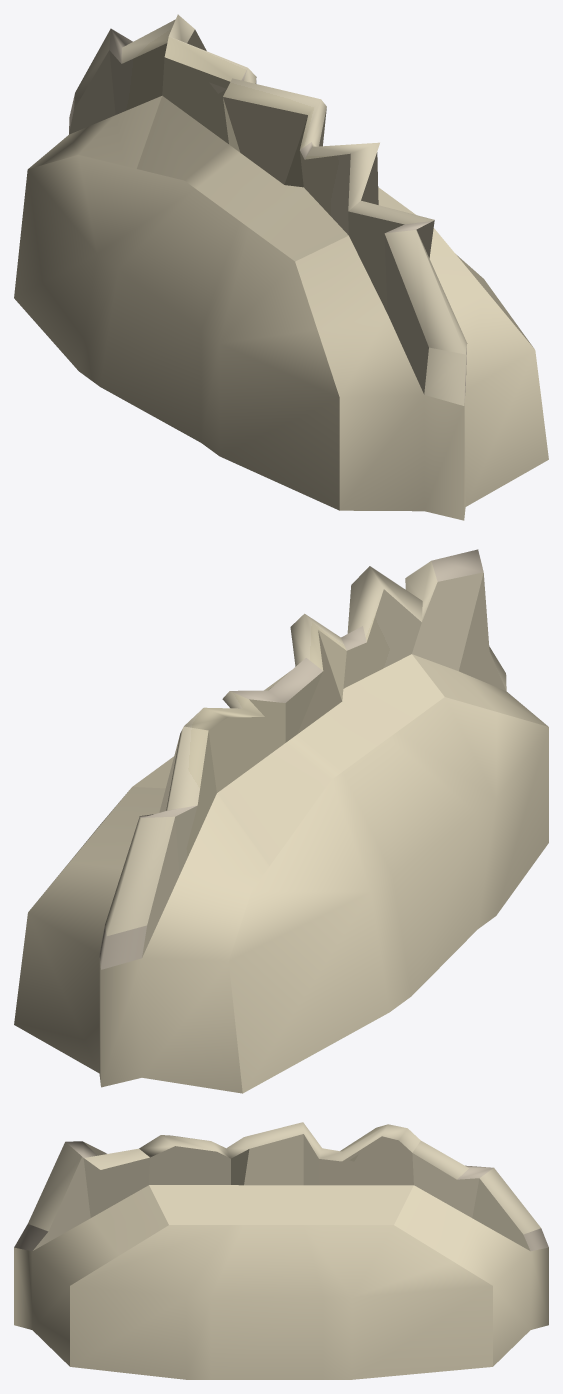
File: dumpling.fbx
3 views of the same model, one above another, from view 1: azimuth 30°, elevation 25°; view 2: azimuth 150°, elevation 25°; view 3: azimuth 270°, elevation 25° (orthographic). The views are drawn at different scales.
Visible parts, largest first — view 1: dumpling; view 2: dumpling; view 3: dumpling.
Part boxes in pixels (bbox=[...]): dumpling: bbox=[14, 14, 548, 520]; dumpling: bbox=[14, 549, 548, 1093]; dumpling: bbox=[14, 1122, 548, 1379].
Size of the model in its own units: 0.2263 by 0.2191 by 0.5135.
